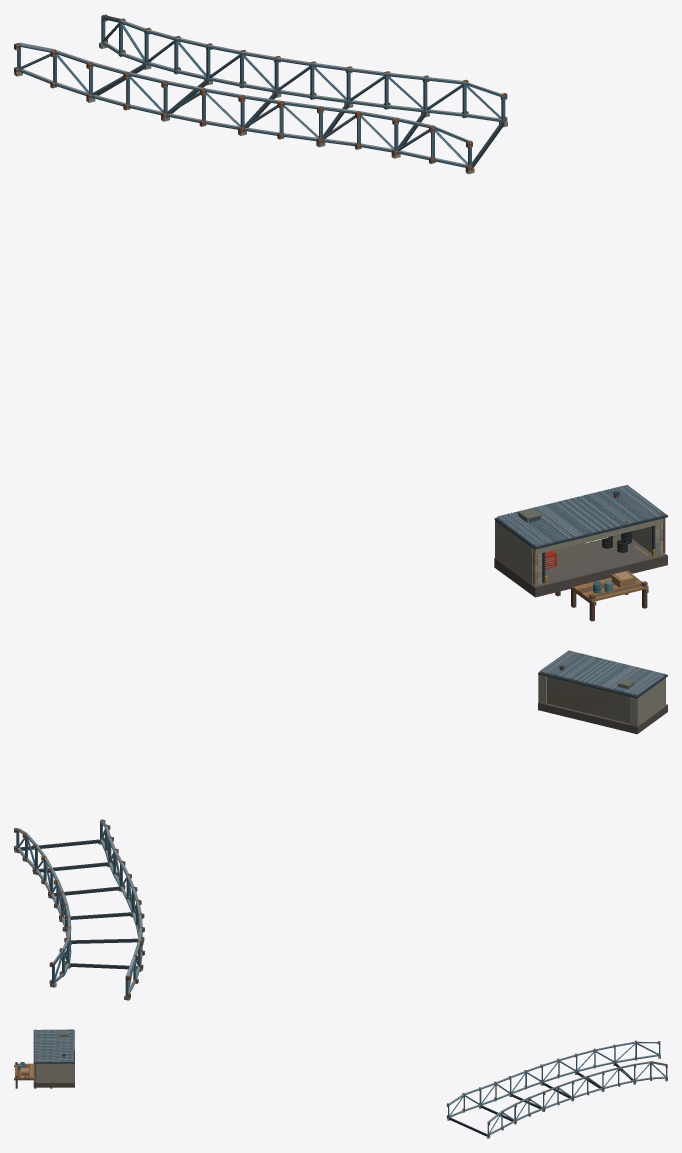
The model's file is dique-infraestructura.glb.
3 views of the same model, one above another, from view 1: azimuth 30°, elevation 25°; view 2: azimuth 150°, elevation 25°; view 3: azimuth 270°, elevation 25° (orthographic). The views are drawn at different scales.
Parts seen in each view (by area): view 1: Box, Puente_1, Puente_2, Puente_3, Embarcadero; view 2: Box, Puente_1, Puente_3, Puente_2; view 3: Box, Puente_3, Puente_1, Puente_2, Embarcadero.
Part boxes in pixels (x1,y1,x2,y2): Box: (494,485,667,597); Puente_1: (322,68,507,174); Puente_2: (166,45,353,147); Puente_3: (14,14,212,121); Embarcadero: (555,570,648,621); Box: (538,650,667,734); Puente_1: (14,819,121,891); Puente_3: (49,913,144,1000); Puente_2: (48,861,141,937); Box: (33,1029,74,1087); Puente_3: (574,1040,667,1091); Puente_1: (446,1077,543,1138); Puente_2: (508,1054,602,1111); Embarcadero: (14,1062,52,1088).
Size of the model in its own units: 39.86 by 9.41 by 106.
